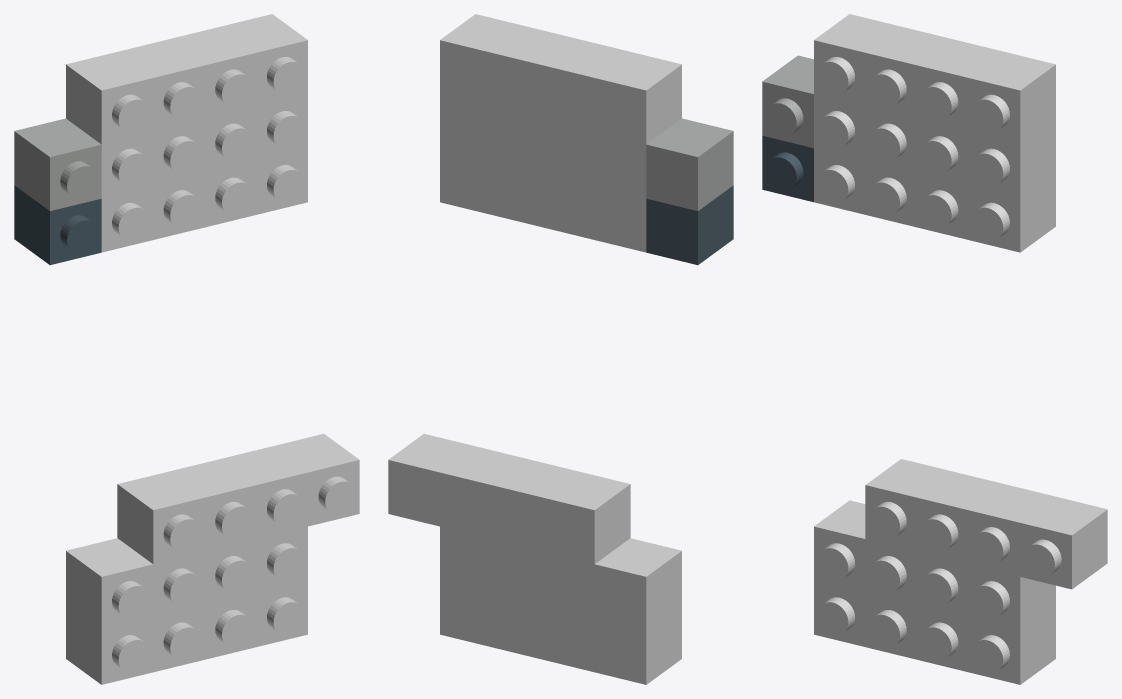
File: current.glb
3 views of the same model, side by side, from view 1: azimuth 30°, elevation 25°; view 2: azimuth 150°, elevation 25°; view 3: azimuth 330°, elevation 25° (orthographic).
Parts seen in each view (by area): view 1: world; view 2: world; view 3: world.
Boxes of the visible parts, x1,y1,x2,y2 form: world: [14, 14, 359, 684]; world: [388, 14, 733, 684]; world: [762, 14, 1107, 684].
Bounding box in the file's own units: 48 × 88 × 11.4.
